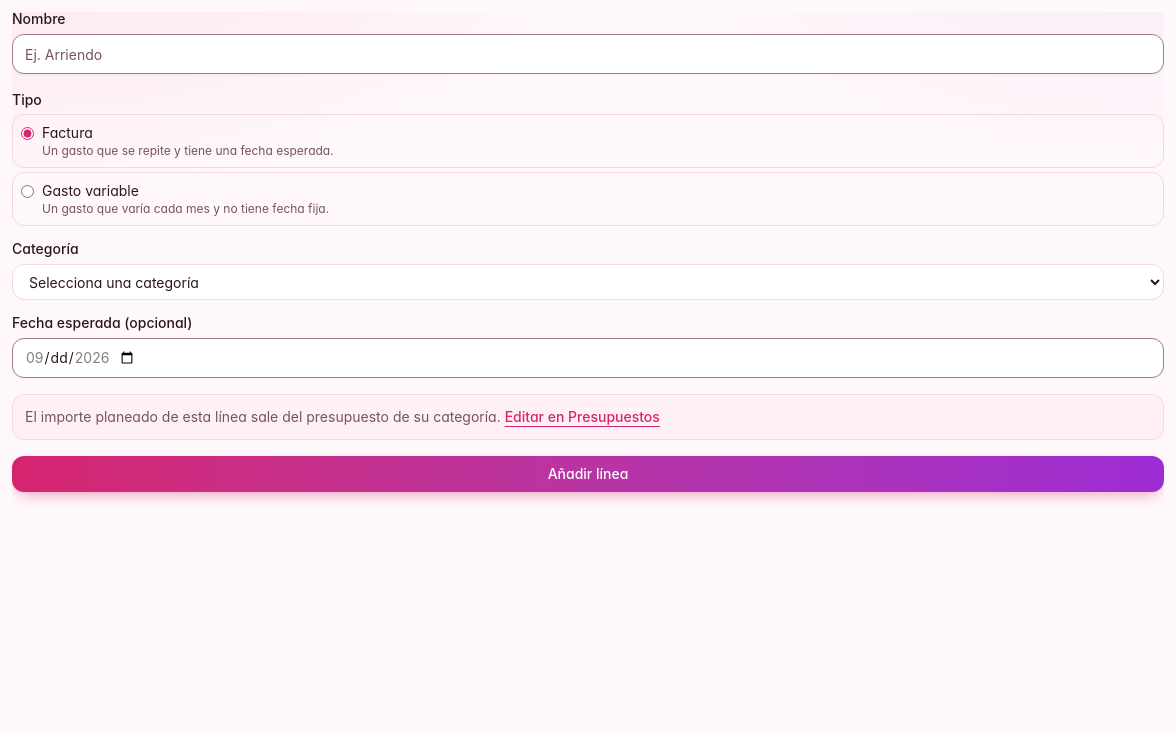
Scenario: PlanLineForm › no guarda sin categoría
Step 1. Type "Arriendo" into the field labelled "Nombre" → (588, 54), box [12,34,1164,74]
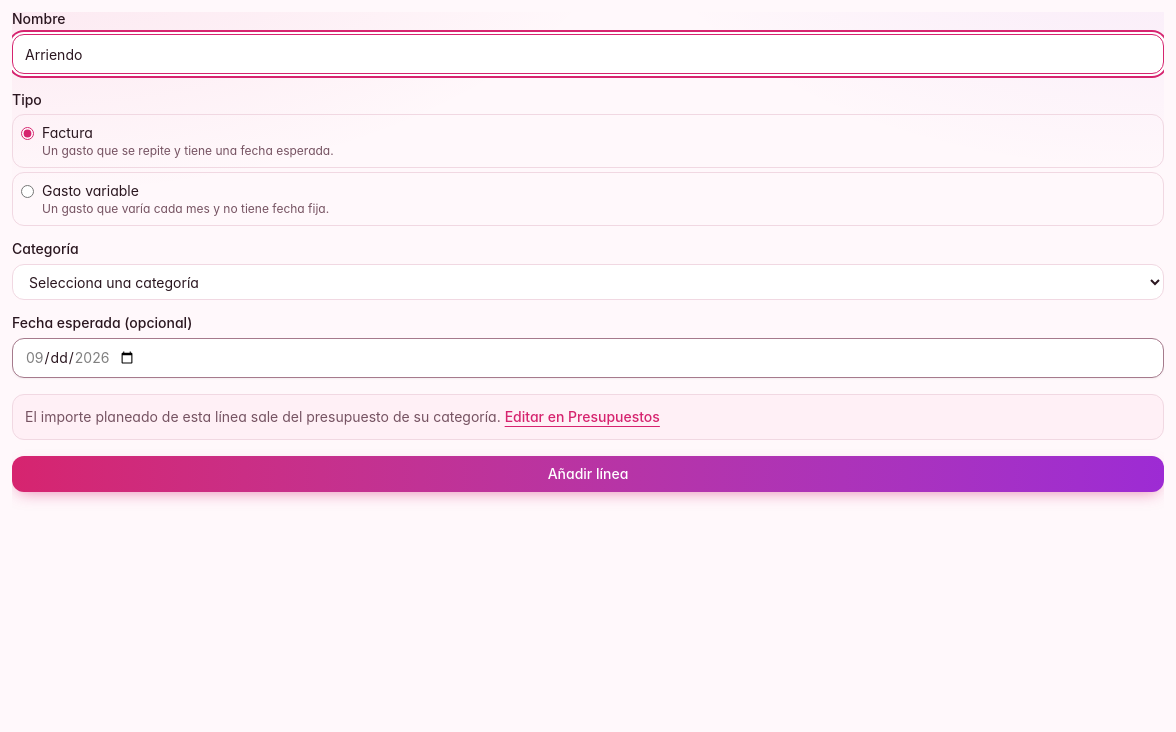
Step 2. Click the button "Añadir línea" → (588, 474), box [12,456,1164,492]
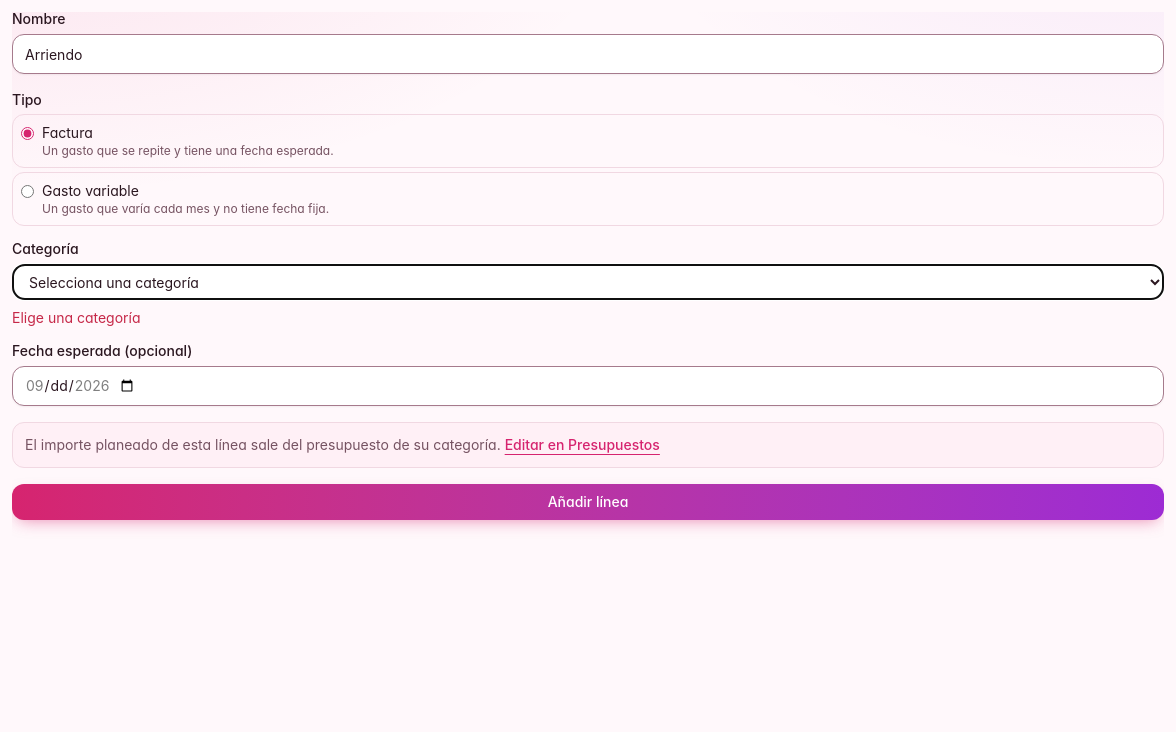
Check: the text "Elige una categoría" is shown, box [12,309,140,326]
